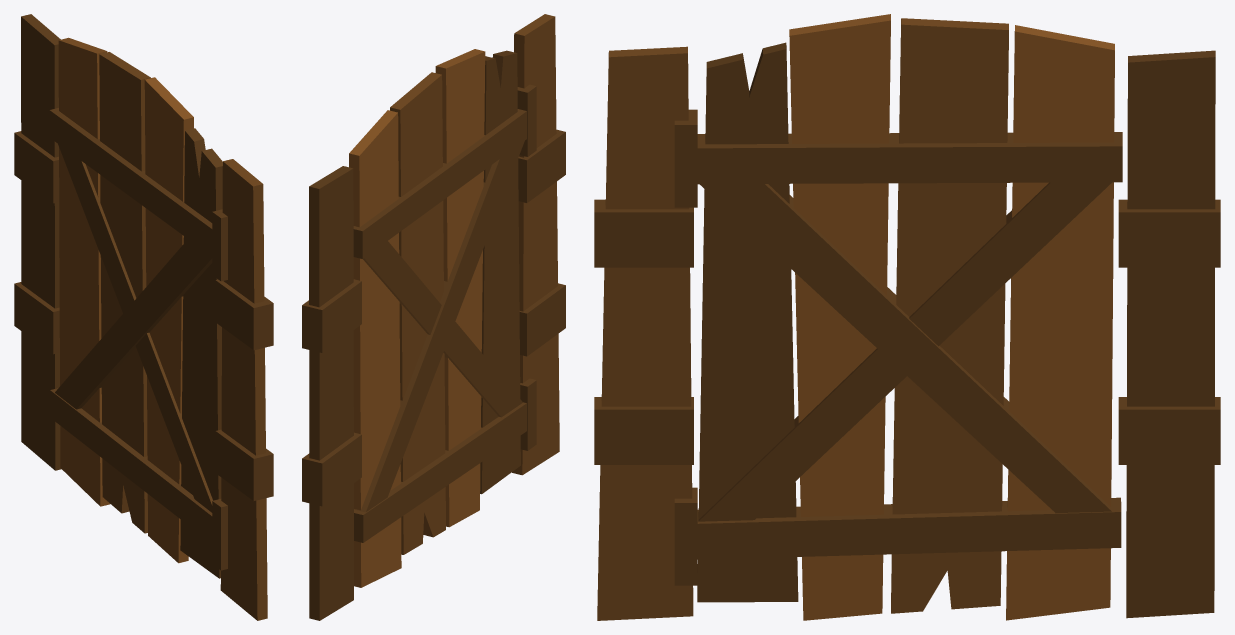
File: Wooden_Fence_Gate.fbx
3 views of the same model, side by side, from view 1: azimuth 30°, elevation 25°; view 2: azimuth 150°, elevation 25°; view 3: azimuth 270°, elevation 25° (orthographic). The views are drawn at different scales.
Visible parts, largest first — view 1: polySurface15, Wooden_Fence_Gate; view 2: polySurface15, Wooden_Fence_Gate; view 3: polySurface15, Wooden_Fence_Gate.
Part boxes in pixels (x1=…): polySurface15: x1=49, y1=37, x2=227, y2=578; Wooden_Fence_Gate: x1=14, y1=14, x2=273, y2=620; polySurface15: x1=349, y1=49, x2=536, y2=587; Wooden_Fence_Gate: x1=302, y1=14, x2=565, y2=620; polySurface15: x1=674, y1=14, x2=1122, y2=620; Wooden_Fence_Gate: x1=594, y1=46, x2=1220, y2=620.
Size of the model in its own units: 11.65 by 211 by 200.
